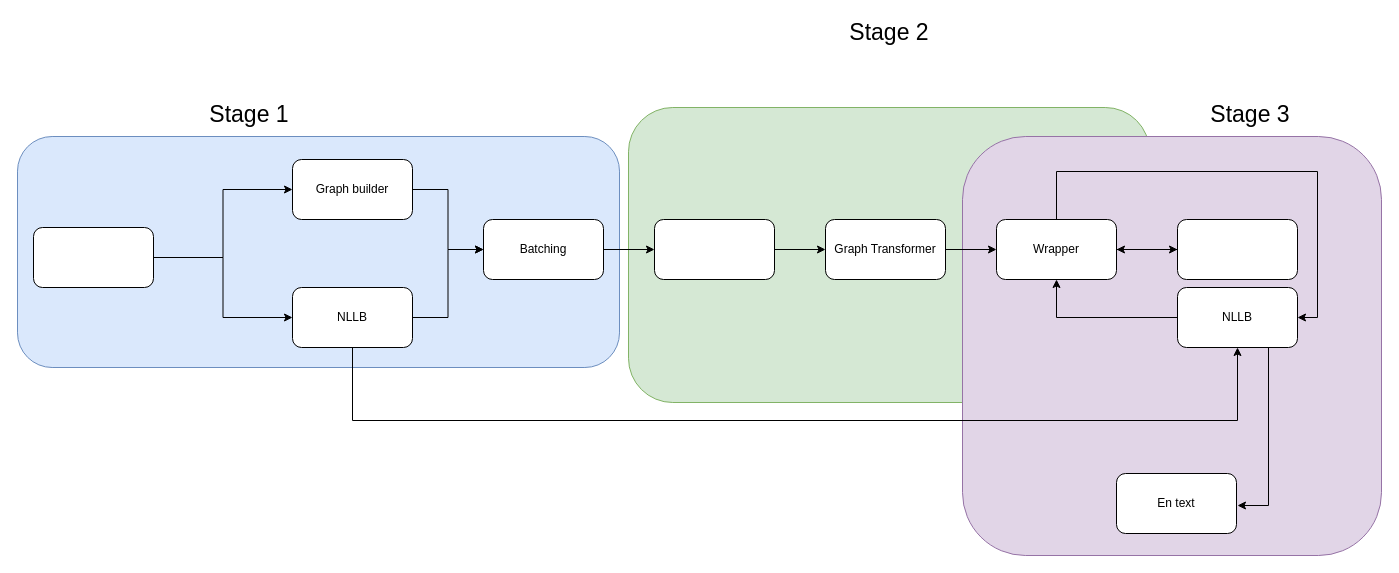
Some shapes in this 1399 by 573 pixel diagram are drawn without their labels. Each missing label, with the centre of its shape:
Feature Extraction: the point at 714,249
Jp text: the point at 93,257
Memory: the point at 1237,249
